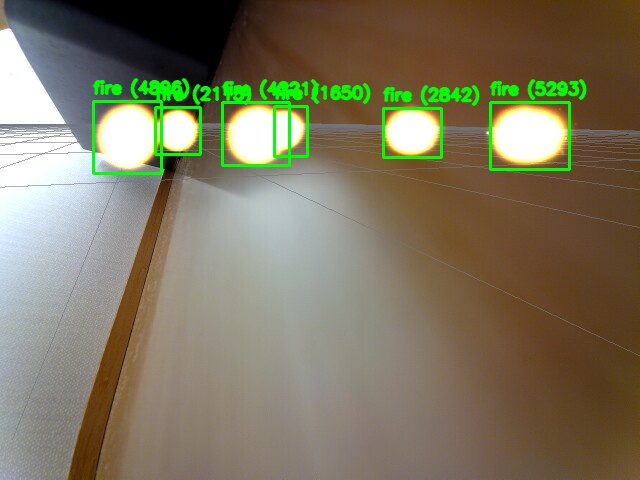fire: (490, 102, 569, 169), (93, 101, 161, 173), (222, 102, 289, 165), (383, 108, 441, 157), (155, 107, 200, 154), (274, 106, 307, 156)
